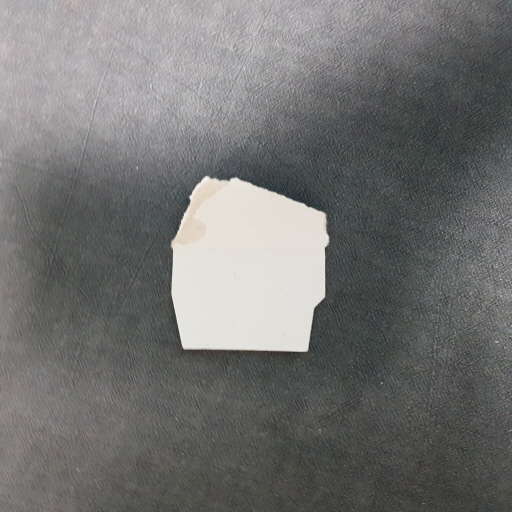Paper_2: (166, 183, 344, 360)
